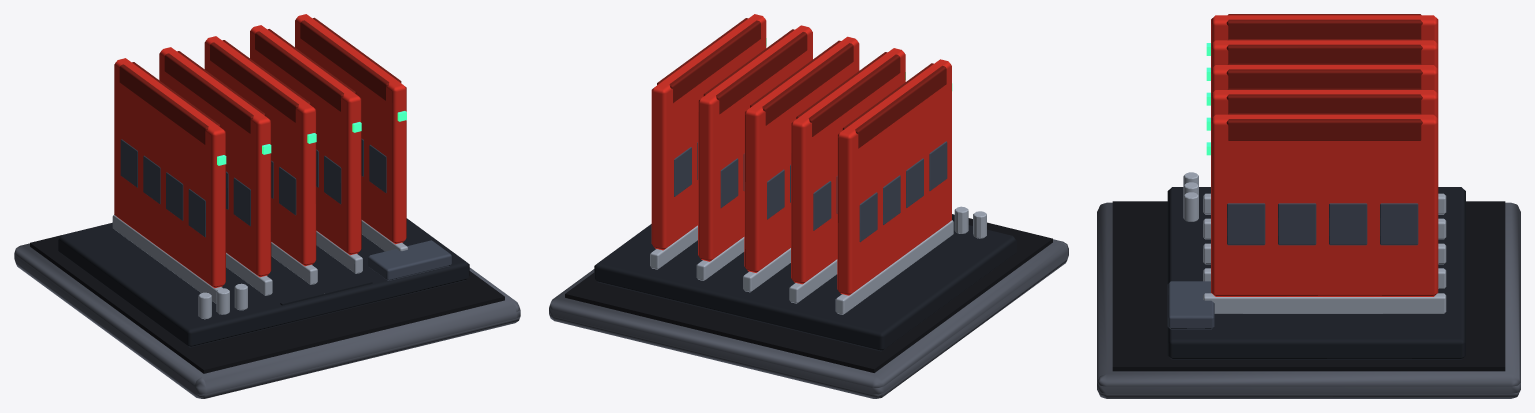
File: redis.glb
The picture shows the model from 3 angles, left to right: view 1: azimuth 30°, elevation 25°; view 2: azimuth 150°, elevation 25°; view 3: azimuth 270°, elevation 25°; orthographic projection. The views are drawn at different scales.
Visible parts, largest first — view 1: body.accent, body.bezel, body.concrete, body.rubber, body.accent_dark, body.steel, body.steel_light, body.led; view 2: body.accent, body.bezel, body.concrete, body.accent_dark, body.rubber, body.steel, body.steel_light; view 3: body.accent, body.accent_dark, body.rubber, body.bezel, body.concrete, body.steel, body.steel_light.
Boxes of the visible parts, x1,y1,x2,y2 form: body.accent: [114, 14, 406, 288]; body.bezel: [58, 218, 469, 347]; body.concrete: [14, 243, 520, 398]; body.rubber: [30, 225, 504, 373]; body.accent_dark: [119, 17, 401, 144]; body.steel: [120, 138, 452, 280]; body.steel_light: [112, 214, 408, 319]; body.led: [217, 111, 406, 165]; body.accent: [651, 14, 951, 295]; body.bezel: [594, 221, 1016, 351]; body.concrete: [549, 239, 1068, 398]; body.accent_dark: [657, 18, 946, 148]; body.rubber: [565, 214, 1052, 372]; body.steel: [674, 141, 947, 242]; body.steel_light: [650, 206, 986, 314]; body.accent: [1211, 15, 1438, 296]; body.accent_dark: [1226, 14, 1422, 140]; body.rubber: [1112, 201, 1505, 371]; body.bezel: [1167, 187, 1465, 359]; body.concrete: [1097, 202, 1520, 398]; body.steel: [1167, 203, 1418, 329]; body.steel_light: [1183, 172, 1446, 313].
Bounding box in the file's own units: 1.08 × 0.692 × 1.08.
